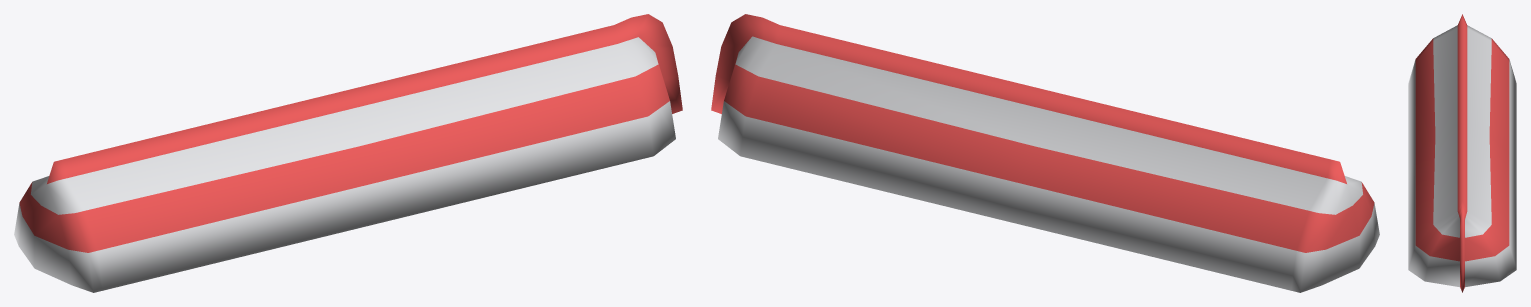
The model's file is upturned_boat.glb.
3 views of the same model, side by side, from view 1: azimuth 30°, elevation 25°; view 2: azimuth 150°, elevation 25°; view 3: azimuth 270°, elevation 25° (orthographic). The views are drawn at different scales.
Visible parts, largest first — view 1: Cylinder; view 2: Cylinder; view 3: Cylinder.
Boxes of the visible parts, <box> form: Cylinder: <box>14,14,682,292</box>; Cylinder: <box>711,14,1379,292</box>; Cylinder: <box>1408,14,1516,292</box>.
Bounding box in the file's own units: 18.84 × 2.93 × 4.
